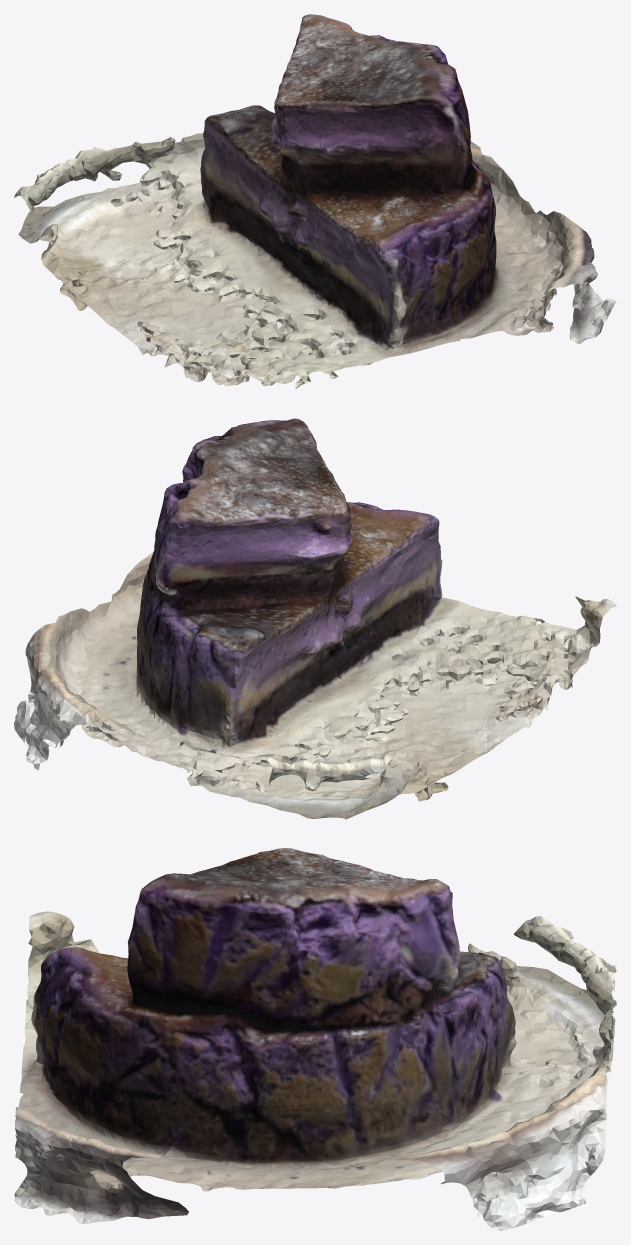
File: jackie_cakes_ube-cheesecake.glb
3 views of the same model, one above another, from view 1: azimuth 30°, elevation 25°; view 2: azimuth 150°, elevation 25°; view 3: azimuth 270°, elevation 25° (orthographic). The views are drawn at different scales.
Bounding box in the file's own units: 0.2092 × 0.1152 × 0.222.
Materials: 1 (1 with a texture image).
